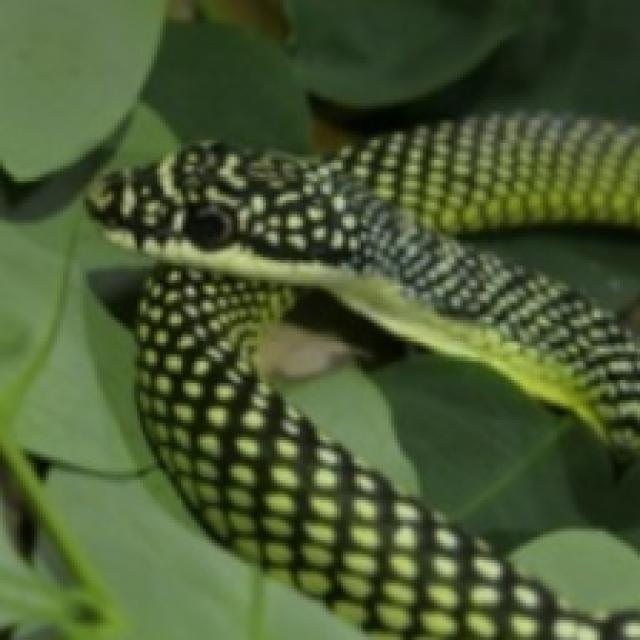paradise tree snake: (89, 117, 637, 637)
